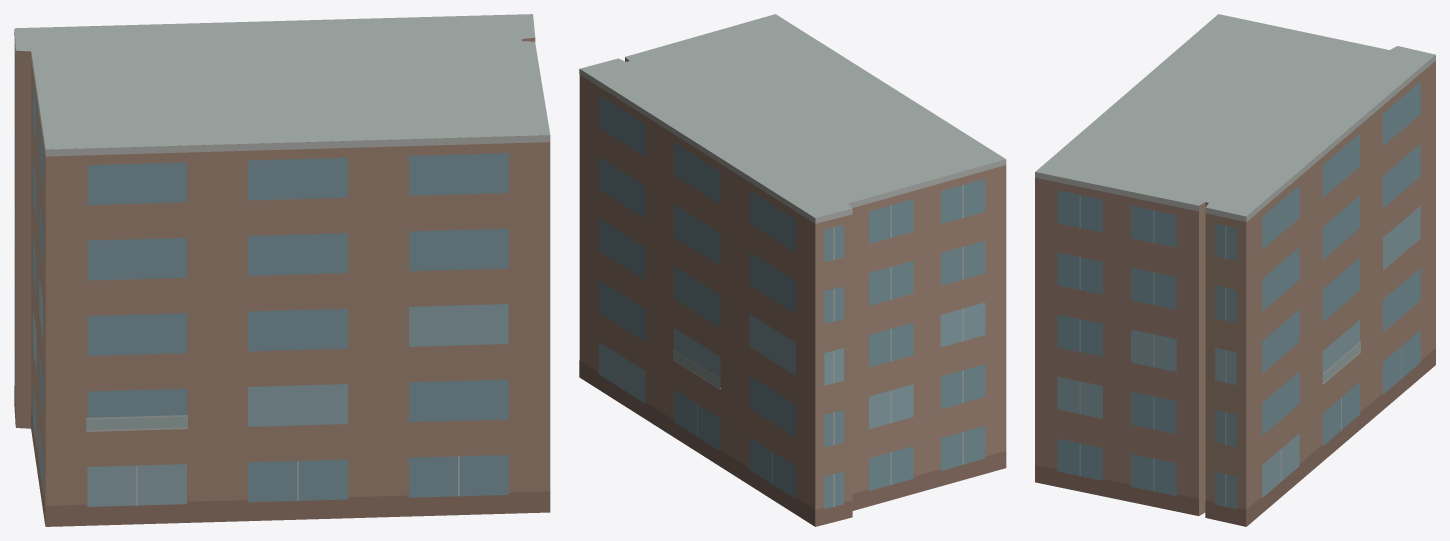
The model's file is survey-upis-32886163.glb.
The picture shows the model from 3 angles, left to right: view 1: azimuth 30°, elevation 25°; view 2: azimuth 150°, elevation 25°; view 3: azimuth 270°, elevation 25°; orthographic projection. The views are drawn at different scales.
Visible parts, largest first — view 1: survey-upis-32886163.tmp; view 2: survey-upis-32886163.tmp; view 3: survey-upis-32886163.tmp.
Boxes of the visible parts, x1,y1,x2,y2 form: survey-upis-32886163.tmp: (14,14,550,526); survey-upis-32886163.tmp: (579,14,1006,526); survey-upis-32886163.tmp: (1035,14,1435,526).
Size of the model in its own units: 18.48 by 13.2 by 15.46.
